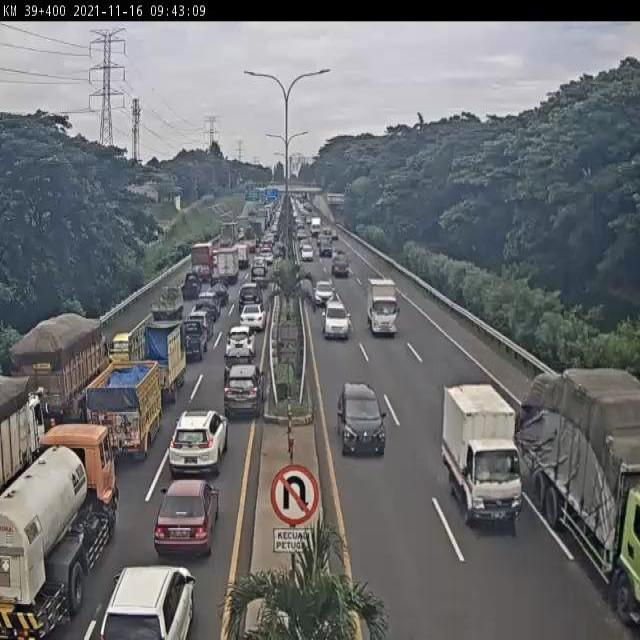car: (98, 565, 194, 640), (156, 478, 220, 558), (171, 409, 229, 476), (337, 380, 386, 457), (225, 365, 266, 420), (322, 300, 352, 340), (226, 327, 257, 362), (240, 305, 267, 331), (196, 292, 222, 317), (239, 284, 263, 309), (111, 334, 132, 362), (209, 276, 229, 304), (190, 312, 213, 336), (182, 273, 201, 299), (314, 282, 334, 306), (250, 267, 267, 288), (254, 257, 268, 272), (260, 248, 273, 263), (301, 244, 313, 260)
small truck: (443, 388, 523, 533), (367, 276, 402, 343), (182, 319, 208, 361), (152, 287, 182, 320), (331, 249, 349, 275), (233, 244, 249, 268), (319, 234, 332, 254)
truck-l-: (522, 368, 640, 633), (12, 315, 110, 424), (0, 378, 45, 498)
truck-m-: (0, 421, 117, 640), (88, 359, 163, 461), (128, 320, 187, 400), (192, 243, 214, 280), (218, 249, 240, 283), (220, 221, 238, 247)
